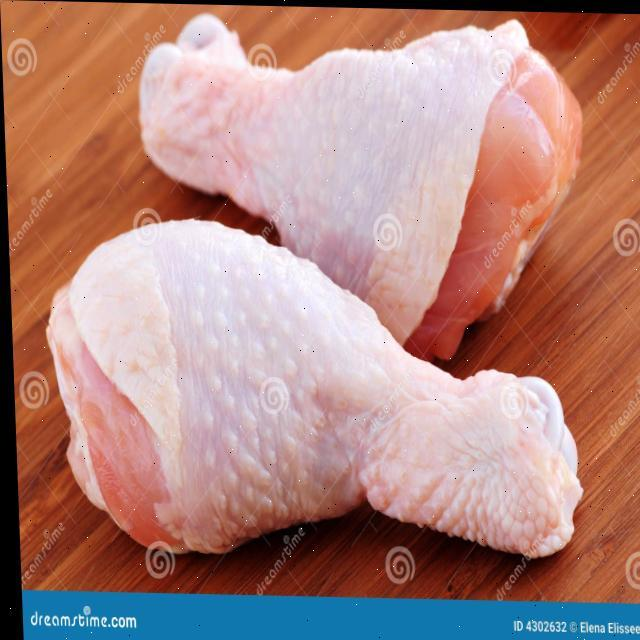leg: (46, 216, 570, 562), (123, 5, 578, 361)
